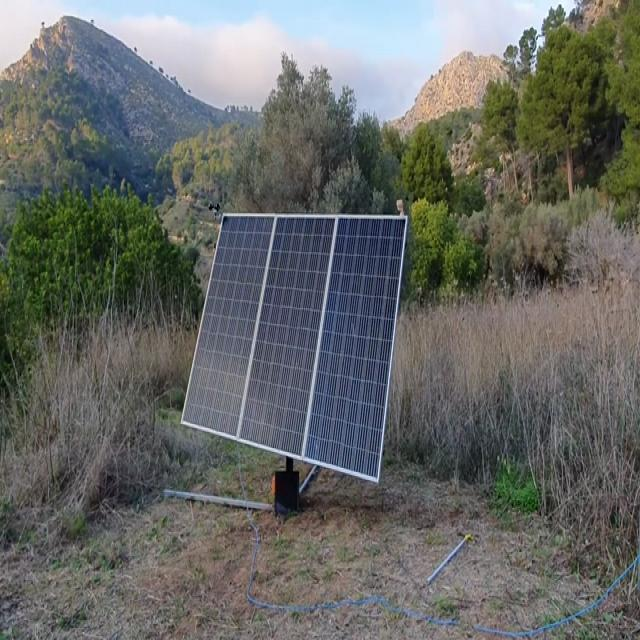Normal Solar Panel: (182, 215, 408, 483)
